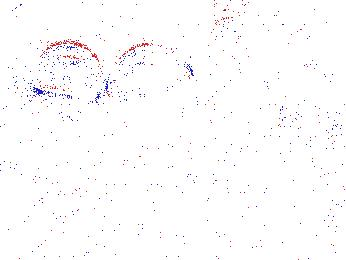moon jellyfish: (237, 1, 346, 106), (212, 13, 311, 89), (105, 43, 194, 97), (33, 42, 104, 104), (1, 9, 38, 81)
